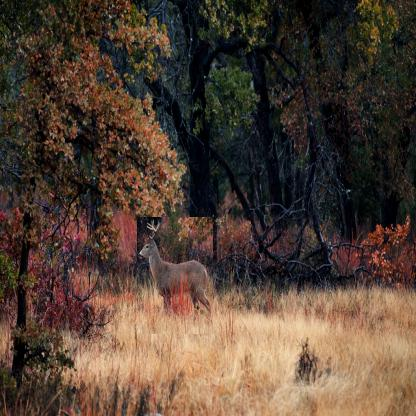Deer: (137, 217, 213, 334)
